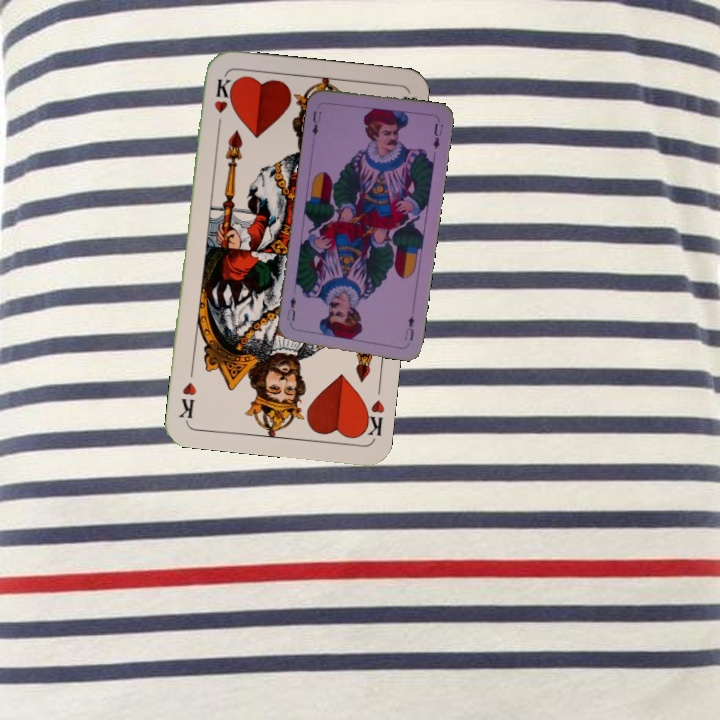EU: (400, 312, 417, 343), (308, 106, 324, 138)
HK: (210, 74, 234, 133), (357, 396, 387, 441)
